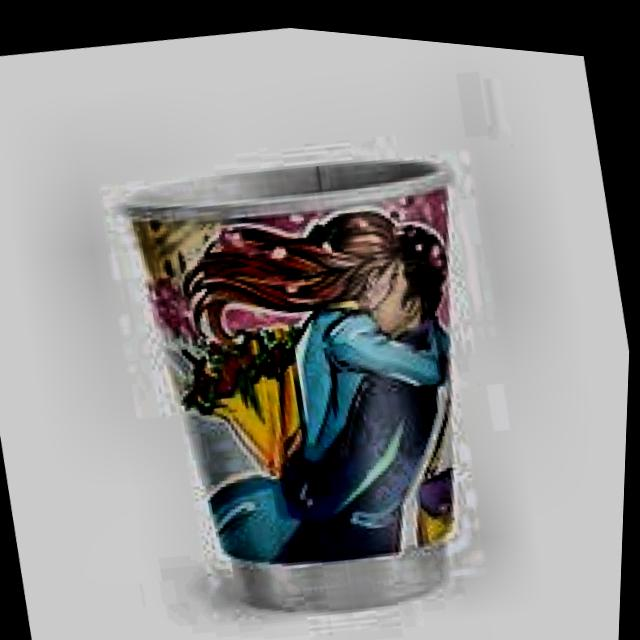Cup: (99, 100, 528, 640)
